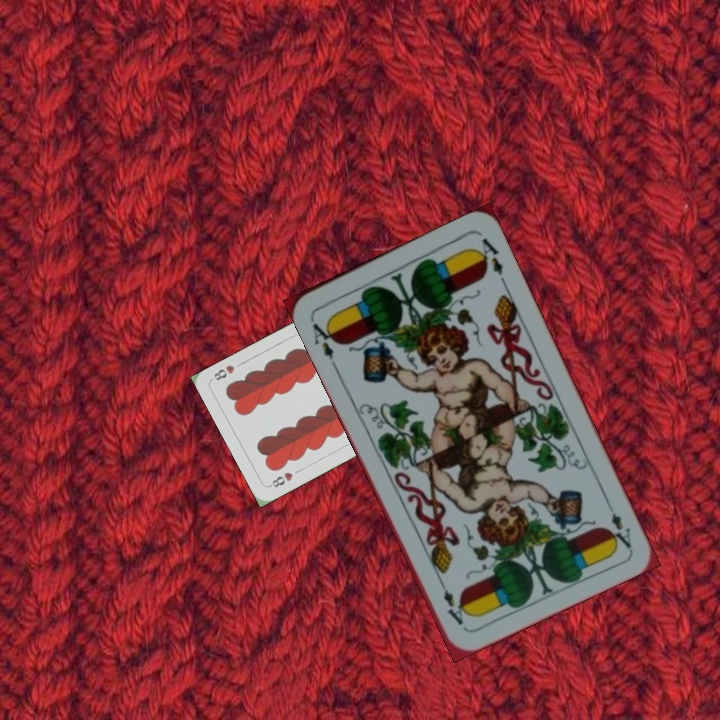EA: (306, 314, 341, 370), (601, 495, 635, 551)
H8: (266, 468, 296, 490)
